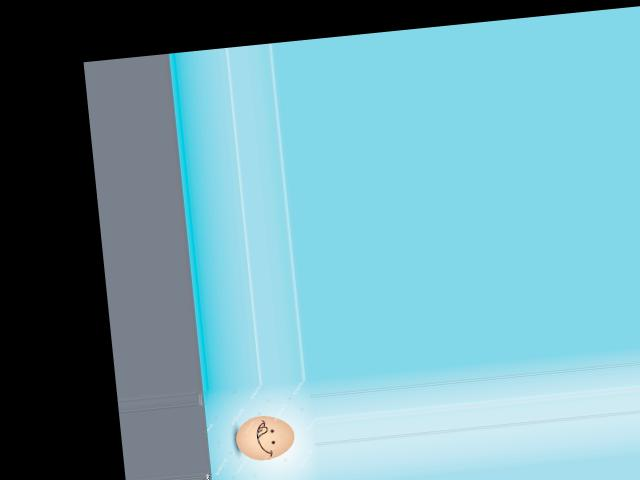egg: (234, 412, 296, 462)
